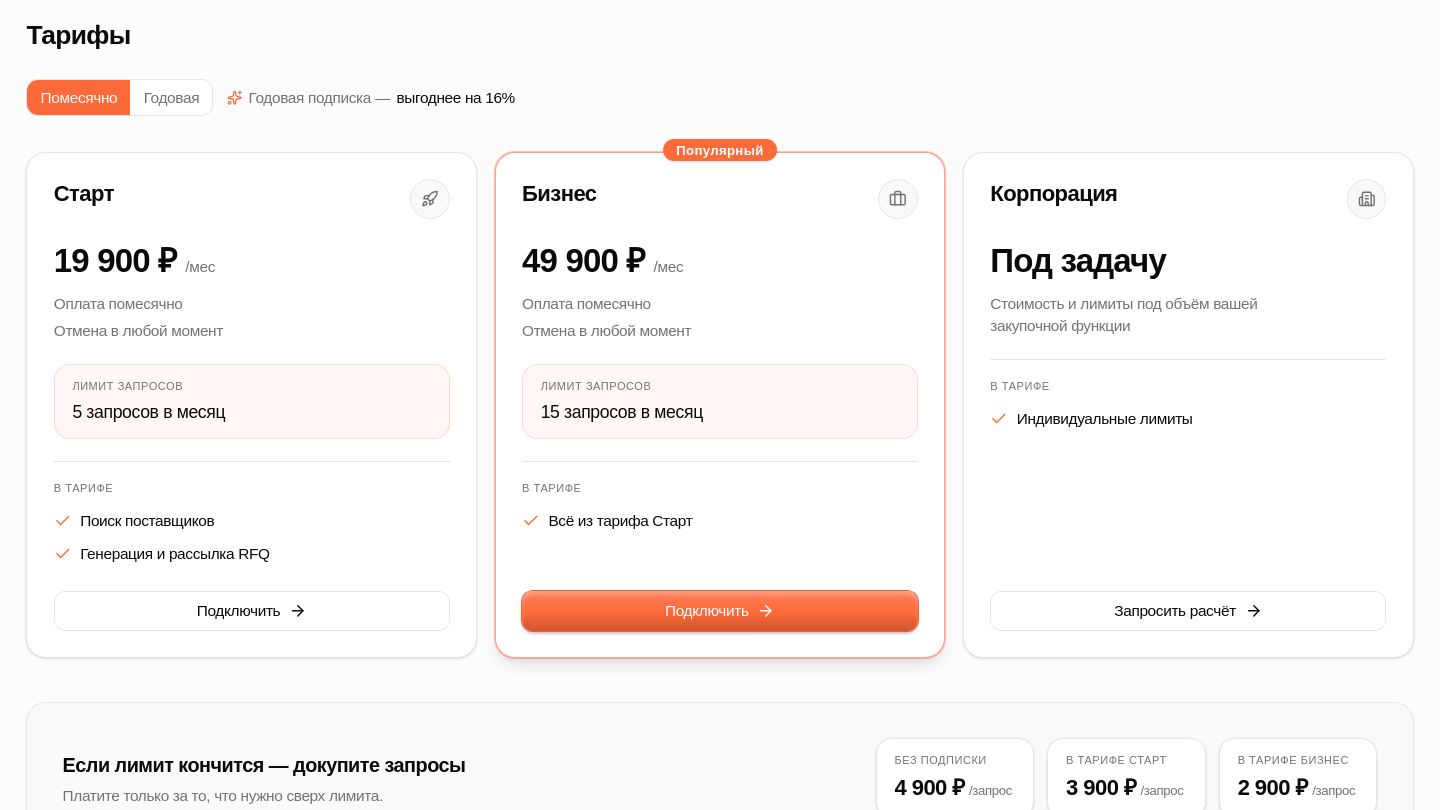
Scenario: TariffsSettingsPage › switching to «Годовая» uses yearlyPrice directly and shows /мес, total and savings
The image size is (1440, 810).
Expected: the heading "Старт" is shown, [54, 179, 114, 210]
Click the button "Годовая" at [171, 98], box [130, 80, 212, 115]
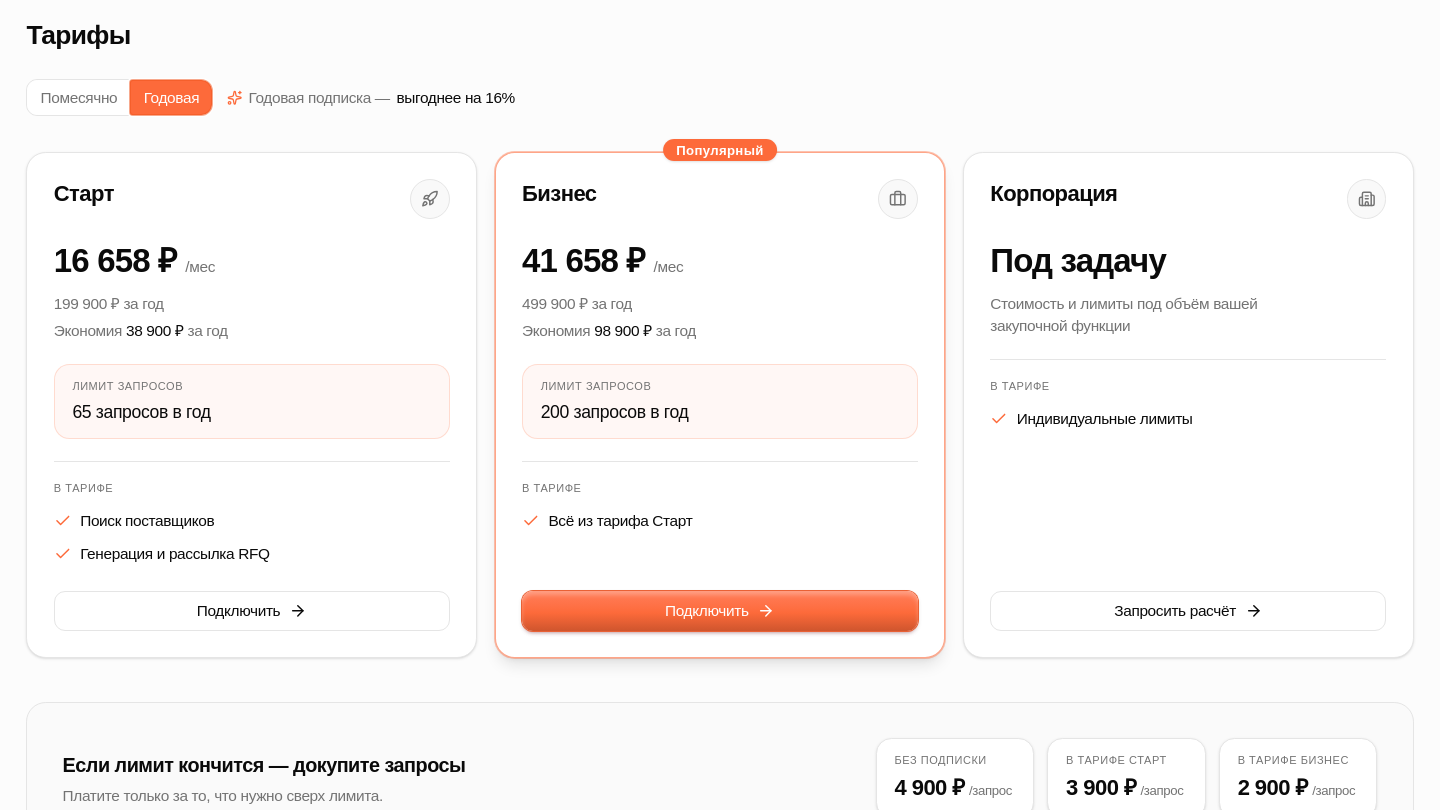
Now the text "16 658 ₽" is shown, box [54, 240, 176, 280]
Now the text "199 900 ₽ за год" is shown, box [54, 295, 164, 312]
Now the text "Экономия 38 900 ₽ за год" is shown, box [54, 322, 228, 339]
